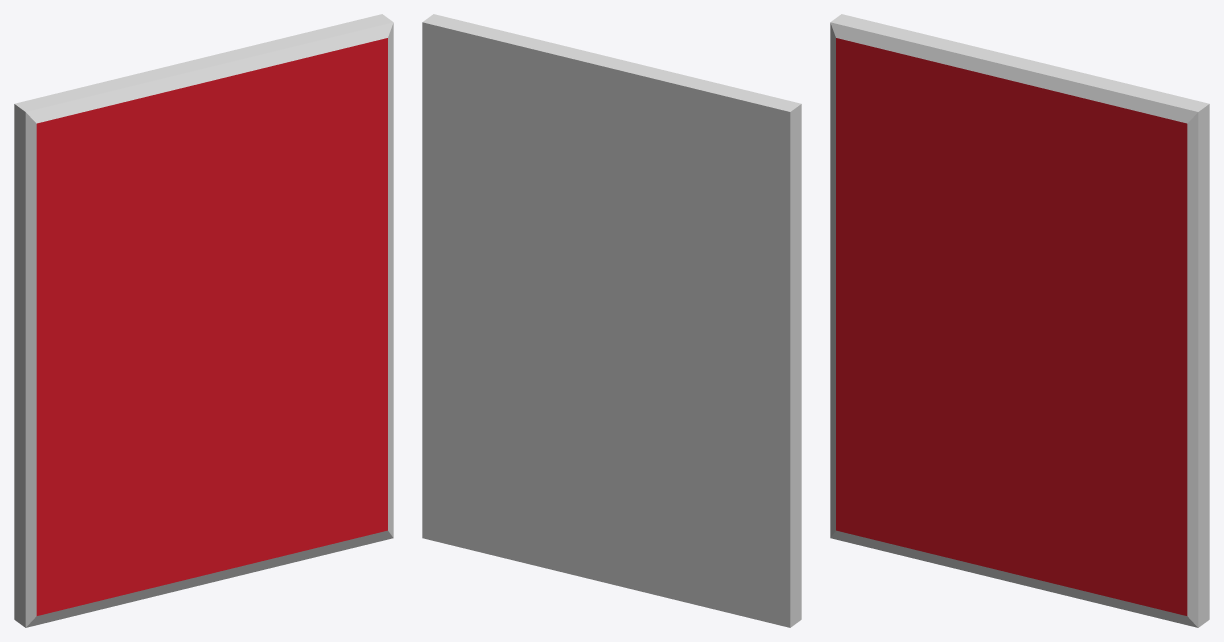
The model's file is image.fbx.
The picture shows the model from 3 angles, left to right: view 1: azimuth 30°, elevation 25°; view 2: azimuth 150°, elevation 25°; view 3: azimuth 330°, elevation 25°; orthographic projection.
Parts seen in each view (by area): view 1: Cube; view 2: Cube; view 3: Cube.
Part boxes in pixels (left/top/right/bottom): Cube: left=14, top=14, right=393, bottom=627; Cube: left=422, top=14, right=801, bottom=627; Cube: left=830, top=14, right=1209, bottom=627.
Bounding box in the file's own units: 200 × 268 × 13.14.
